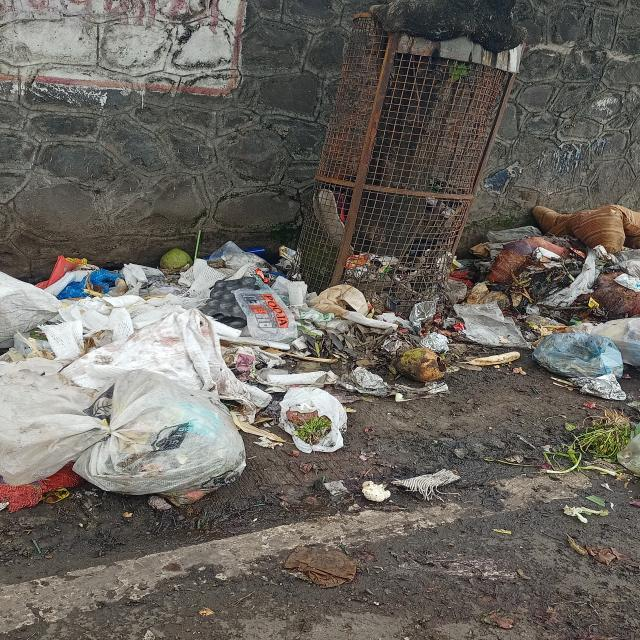garbage: (0, 251, 368, 501), (432, 200, 640, 433)
